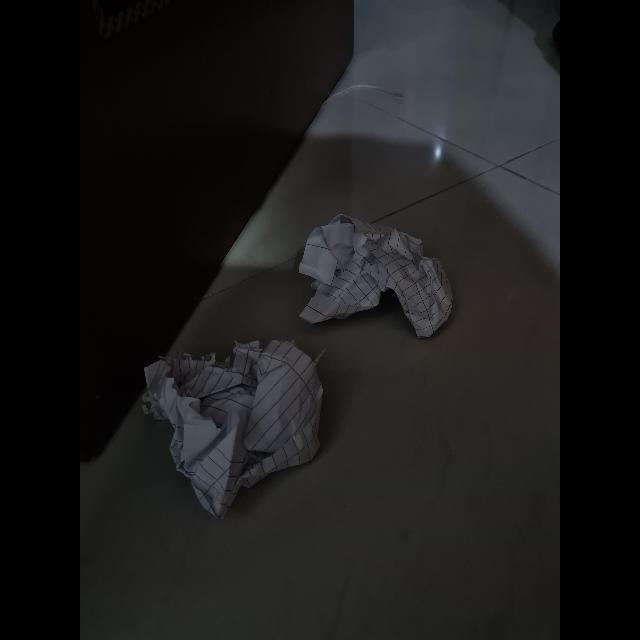trash: (140, 337, 322, 515), (300, 208, 454, 329)
